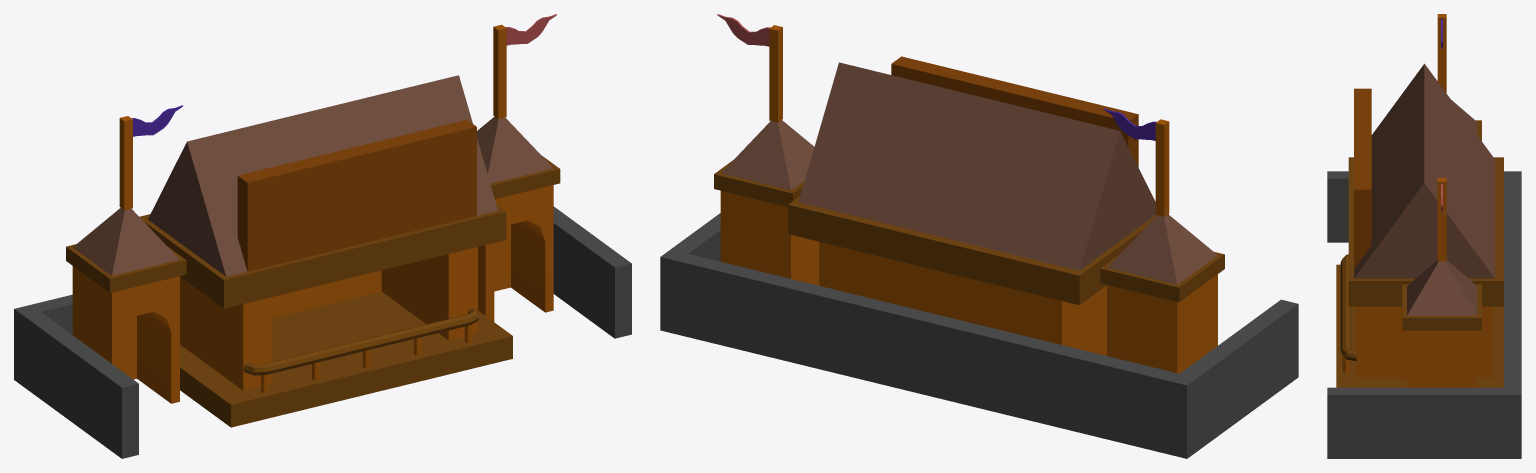
File: Arena house.fbx
The picture shows the model from 3 angles, left to right: view 1: azimuth 30°, elevation 25°; view 2: azimuth 150°, elevation 25°; view 3: azimuth 270°, elevation 25°; orthographic projection. The views are drawn at different scales.
Parts seen in each view (by area): view 1: HOUSE_BUILDING, POSTER_BUILDING, WALLS_BUILDING, L_OUTPOST_BUILDING, R_OUTPOST_BUILDING; view 2: HOUSE_BUILDING, WALLS_BUILDING, L_OUTPOST_BUILDING, R_OUTPOST_BUILDING, POSTER_BUILDING; view 3: HOUSE_BUILDING, WALLS_BUILDING, R_OUTPOST_BUILDING, POSTER_BUILDING, L_OUTPOST_BUILDING.
Boxes of the visible parts, bbox=[...] form: HOUSE_BUILDING: bbox=[139, 75, 512, 427]; POSTER_BUILDING: bbox=[237, 120, 476, 271]; WALLS_BUILDING: bbox=[14, 206, 631, 458]; L_OUTPOST_BUILDING: bbox=[66, 105, 186, 403]; R_OUTPOST_BUILDING: bbox=[477, 14, 560, 321]; HOUSE_BUILDING: bbox=[788, 62, 1168, 355]; WALLS_BUILDING: bbox=[660, 213, 1298, 458]; L_OUTPOST_BUILDING: bbox=[1100, 108, 1224, 373]; R_OUTPOST_BUILDING: bbox=[714, 14, 819, 285]; POSTER_BUILDING: bbox=[891, 56, 1138, 167]; HOUSE_BUILDING: bbox=[1336, 63, 1503, 387]; WALLS_BUILDING: bbox=[1327, 171, 1521, 458]; R_OUTPOST_BUILDING: bbox=[1402, 178, 1481, 387]; POSTER_BUILDING: bbox=[1354, 88, 1371, 268]; L_OUTPOST_BUILDING: bbox=[1437, 14, 1481, 140].
Size of the model in its own units: 37.5 by 19.47 by 13.75.
